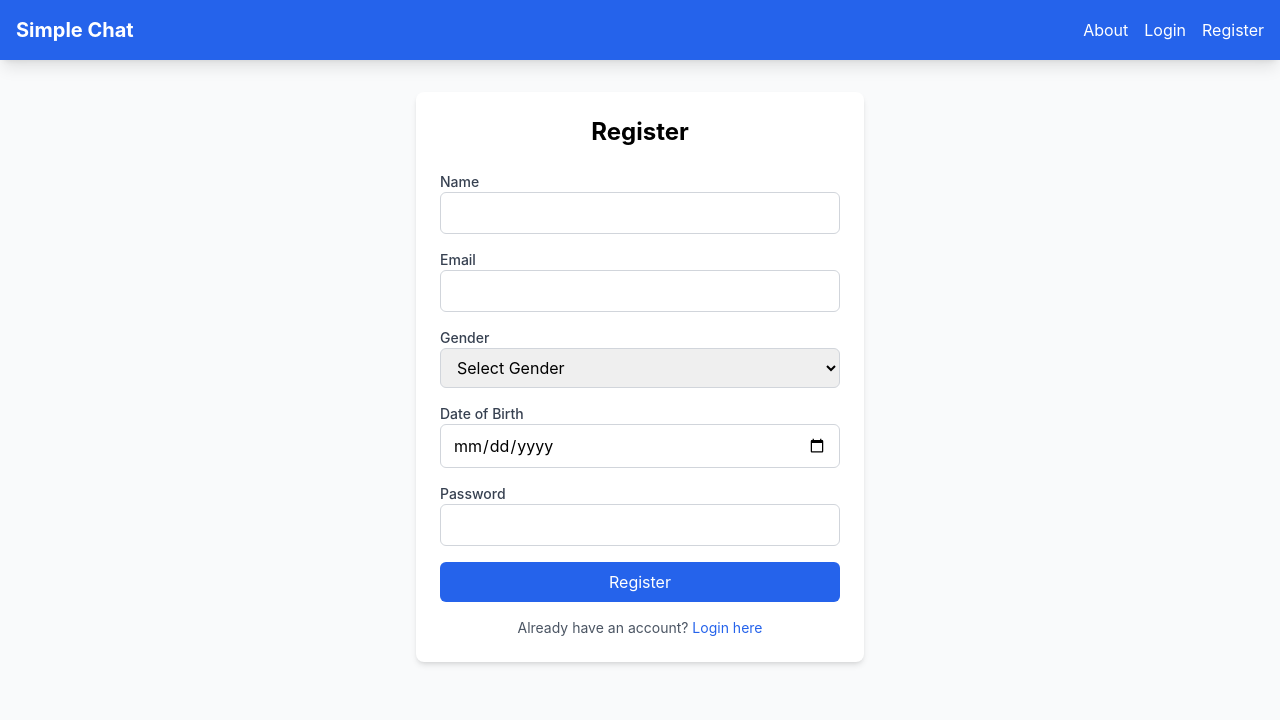
Test: Authentication Flow › Registration › should validate password length
Type "John Doe" into the field named "name" at [640, 213], box x1=440 y1=192 x2=840 y2=234
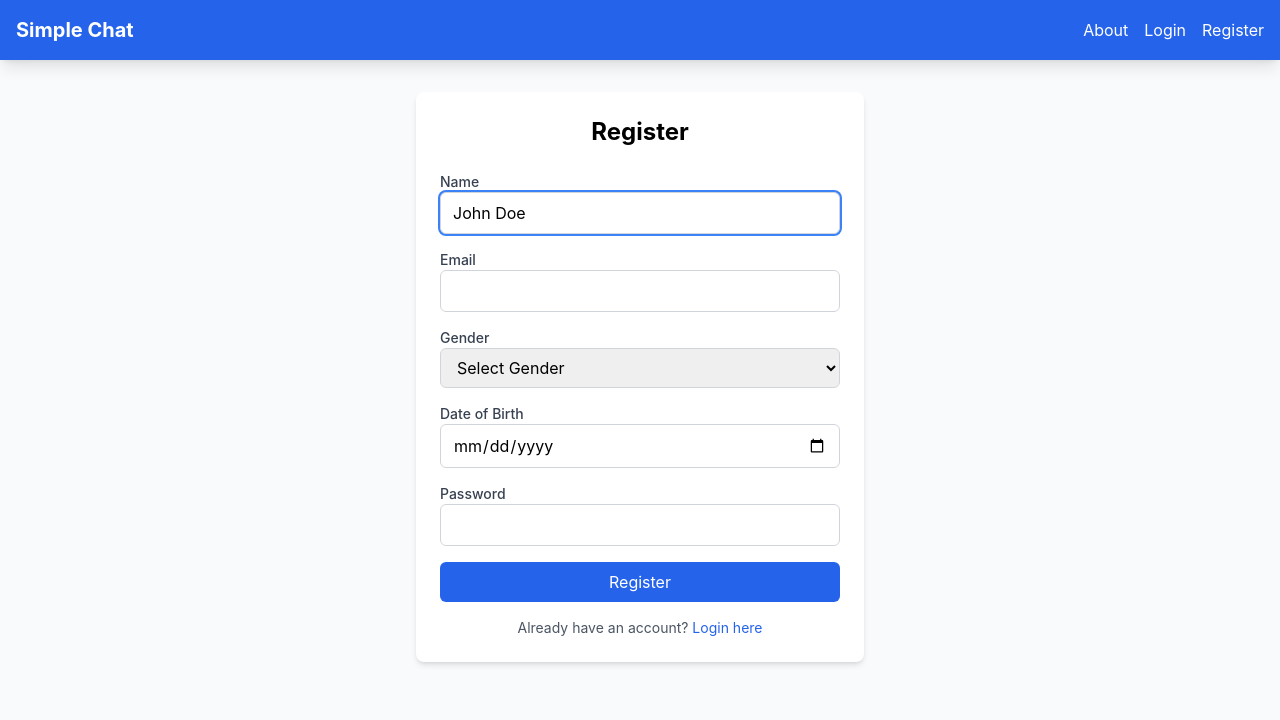
Type "john@example.com" into the field named "email" at [640, 291], box x1=440 y1=270 x2=840 y2=312
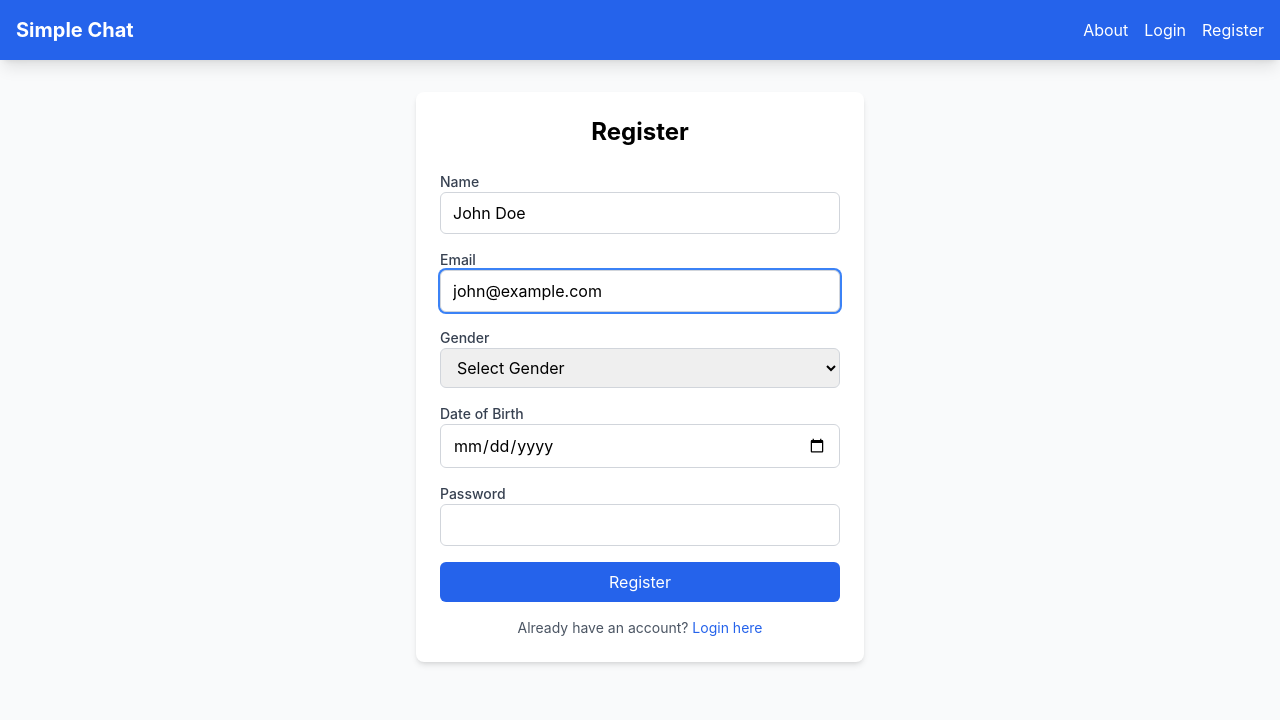
Select "Male" in the dropdown named "gender" at [640, 368], box x1=440 y1=348 x2=840 y2=388
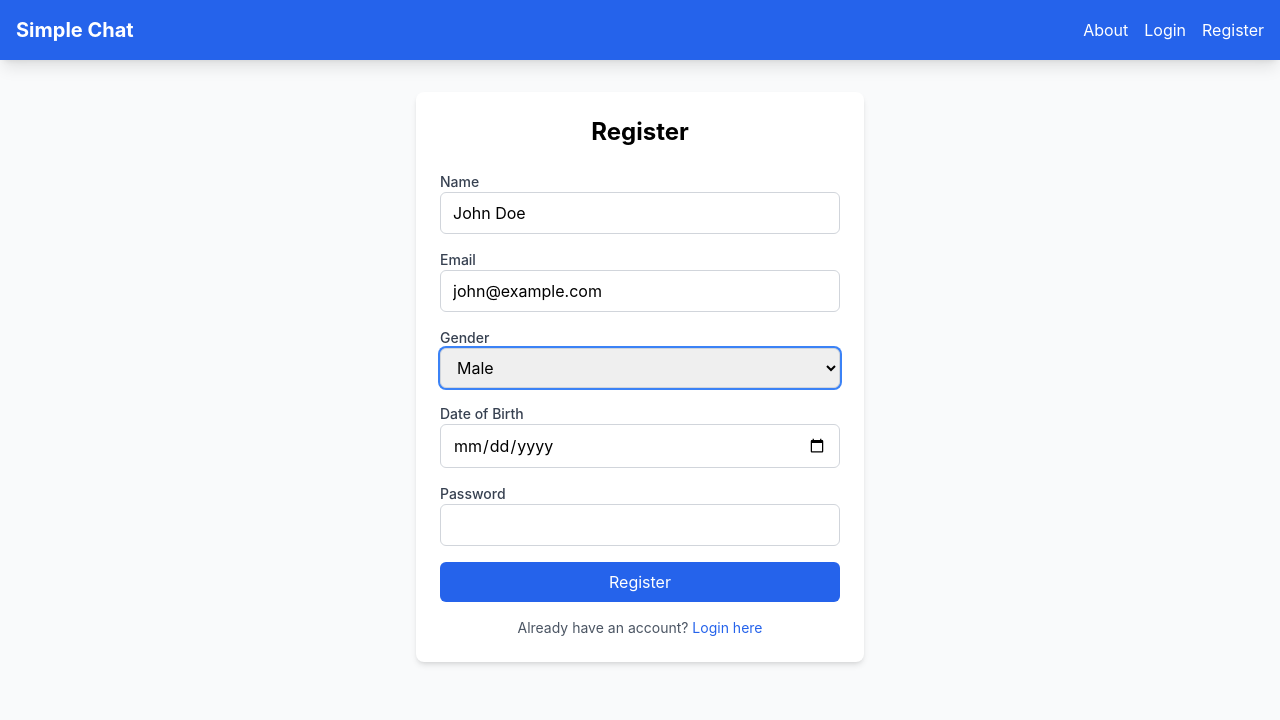
Type "1990-01-01" into the date field named "dateOfBirth" at [640, 446], box x1=440 y1=424 x2=840 y2=468
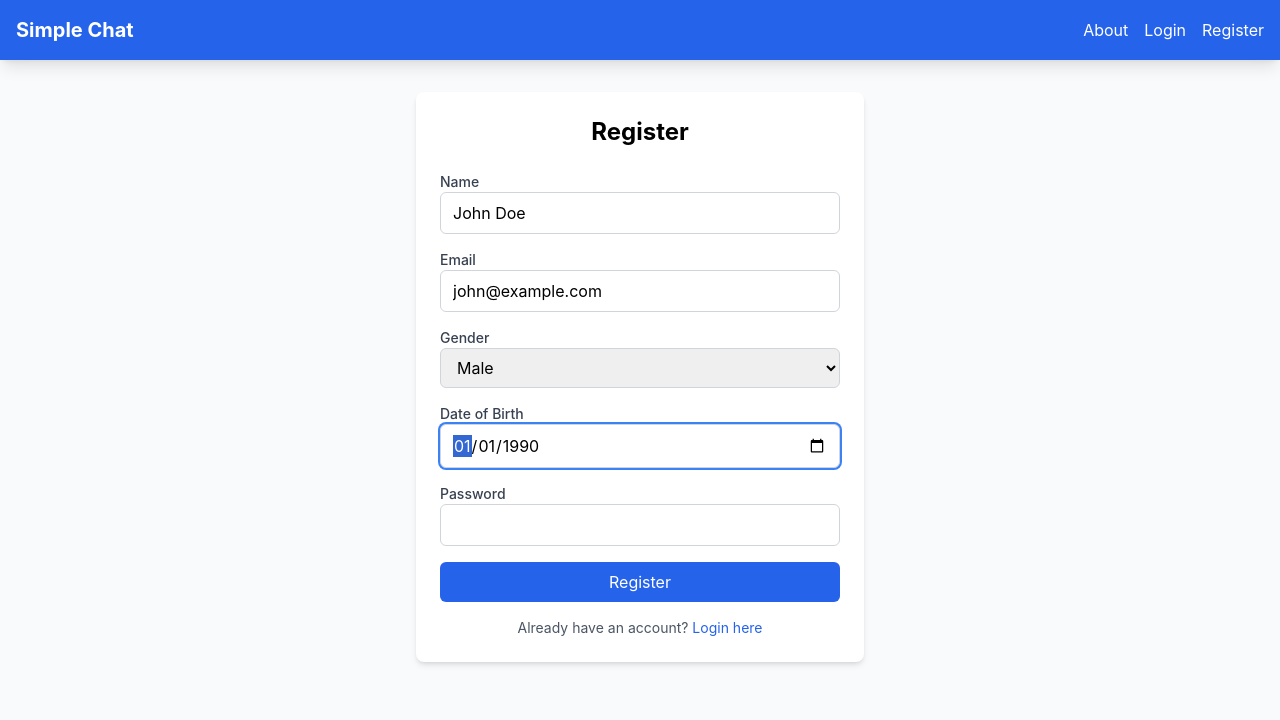
Type "123" into the password field named "password" at [640, 525], box x1=440 y1=504 x2=840 y2=546
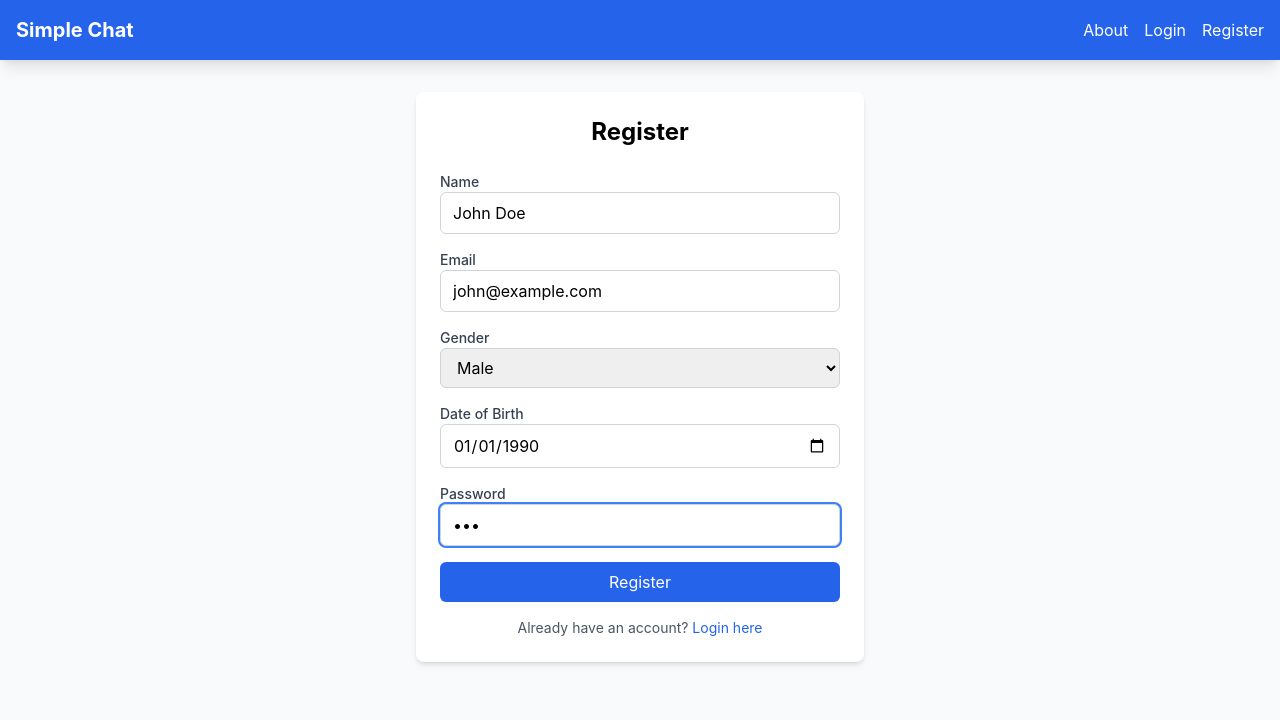
Click the submit button at [640, 582], box x1=440 y1=562 x2=840 y2=602
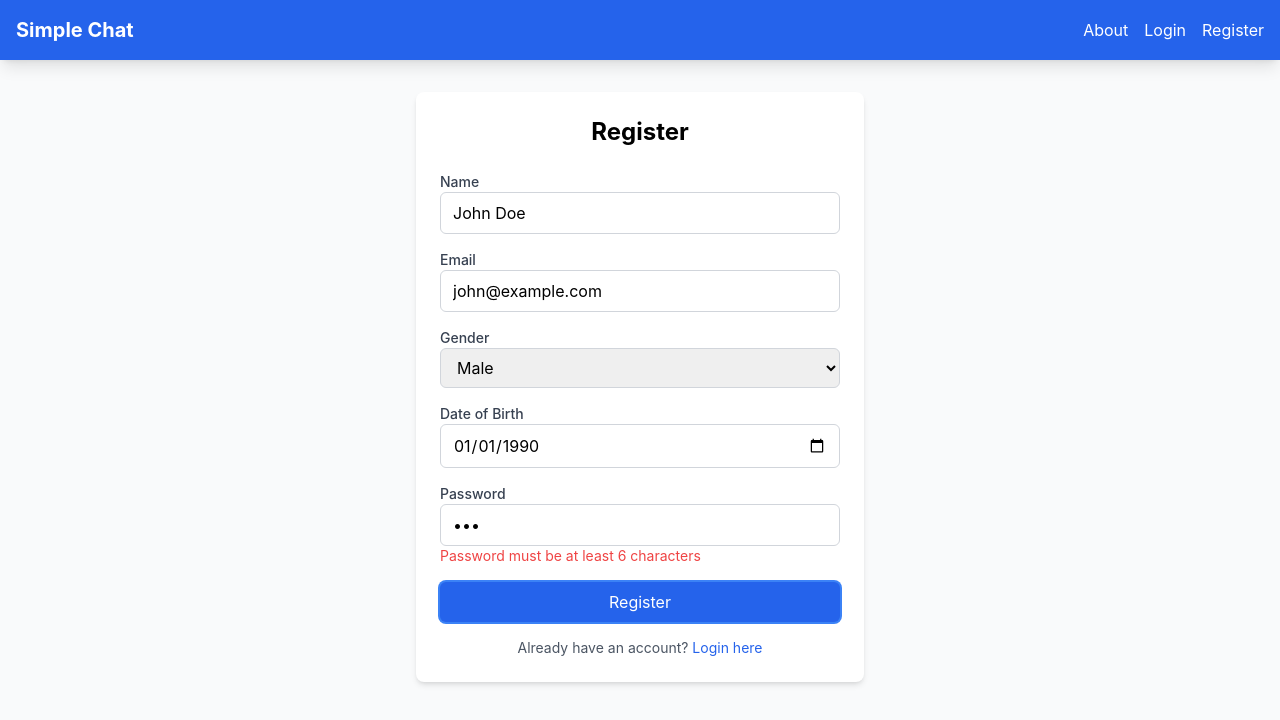
Check: the text "Password must be at least 6 characters" is shown, box x1=440 y1=547 x2=701 y2=564
